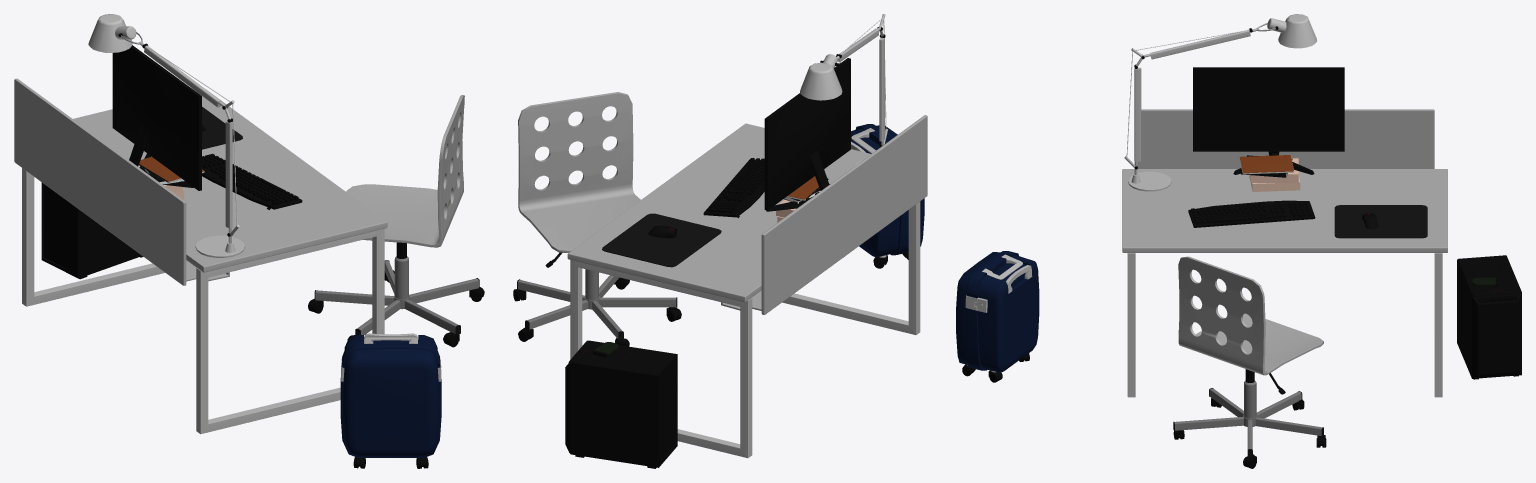
The model's file is Home Desk.obj.
The picture shows the model from 3 angles, left to right: view 1: azimuth 30°, elevation 25°; view 2: azimuth 150°, elevation 25°; view 3: azimuth 270°, elevation 25°; orthographic projection. The views are drawn at different scales.
Parts seen in each view (by area): view 1: pCube11_Key3_0, Air_bag:pCube13_Sep_33_Air_bag:Bag_0, pCube11_Air_bag:Key_0, pCube18_Stool:phong1_0, ffd1Lattice1_Key3_0, pCube83_Stool:phong1_0, polySurface1_Air_bag:Key_0, ffd1Lattice1_Key4_0, pCube58_Dup_3_Stool:phong1_0, pCube59_phong1_0, ffd1Lattice1_Ext_6_Stool:phong1_0, pCube22_Sep_5_Stool:phong1_0 (+1 smaller); view 2: pCube11_Key3_0, ffd1Lattice1_Key3_0, pCube83_Stool:phong1_0, pCube11_Air_bag:Key_0, pCube18_Stool:phong1_0, pCube59_phong1_0, ffd1Lattice1_Key4_0, polySurface1_Air_bag:Key_0, Air_bag:pCube13_Sep_33_Air_bag:Bag_0, pCube58_Dup_3_Stool:phong1_0, ffd1Lattice1_Ext_6_Stool:phong1_0, pCube22_Sep_5_Stool:phong1_0; view 3: pCube11_Key3_0, pCube18_Stool:phong1_0, ffd1Lattice1_Key3_0, Air_bag:pCube13_Sep_33_Air_bag:Bag_0, pCube83_Stool:phong1_0, polySurface1_Air_bag:Key_0, pCube59_phong1_0, ffd1Lattice1_Key4_0, pCube11_Air_bag:Key_0, pCube58_Dup_3_Stool:phong1_0, Air_bag:pCube13_Sep_33_Air_bag:Key_0, pCube23_Dup_4_Key_0.
Part boxes in pixels (x1,y1,x2,y2): pCube11_Key3_0: (14,78,387,285); Air_bag:pCube13_Sep_33_Air_bag:Bag_0: (340,335,441,457); pCube11_Air_bag:Key_0: (22,168,384,434); pCube18_Stool:phong1_0: (112,45,201,190); ffd1Lattice1_Key3_0: (346,95,464,247); pCube83_Stool:phong1_0: (41,182,143,279); polySurface1_Air_bag:Key_0: (88,14,244,257); ffd1Lattice1_Key4_0: (315,256,478,335); pCube58_Dup_3_Stool:phong1_0: (202,153,302,209); pCube59_phong1_0: (202,106,242,149); ffd1Lattice1_Ext_6_Stool:phong1_0: (308,270,484,347); pCube22_Sep_5_Stool:phong1_0: (129,125,193,187); pCube11_Key3_0: (567,115,927,314); ffd1Lattice1_Key3_0: (518,92,640,252); pCube83_Stool:phong1_0: (565,340,677,468); pCube11_Air_bag:Key_0: (570,201,920,458); pCube18_Stool:phong1_0: (764,58,850,210); pCube59_phong1_0: (602,213,721,267); ffd1Lattice1_Key4_0: (518,269,676,338); polySurface1_Air_bag:Key_0: (800,14,887,166); Air_bag:pCube13_Sep_33_Air_bag:Bag_0: (851,124,924,256); pCube58_Dup_3_Stool:phong1_0: (703,158,764,218); ffd1Lattice1_Ext_6_Stool:phong1_0: (513,277,681,346); pCube22_Sep_5_Stool:phong1_0: (766,150,829,211); pCube11_Key3_0: (1122,109,1447,252); pCube18_Stool:phong1_0: (1193,67,1344,151); ffd1Lattice1_Key3_0: (1178,256,1323,375); Air_bag:pCube13_Sep_33_Air_bag:Bag_0: (956,251,1039,372); pCube83_Stool:phong1_0: (1457,255,1521,379); polySurface1_Air_bag:Key_0: (1124,14,1317,191); pCube59_phong1_0: (1334,205,1427,238); ffd1Lattice1_Key4_0: (1174,380,1322,449); pCube11_Air_bag:Key_0: (1127,253,1442,397); pCube58_Dup_3_Stool:phong1_0: (1188,200,1315,227); Air_bag:pCube13_Sep_33_Air_bag:Key_0: (965,254,1032,312); pCube23_Dup_4_Key_0: (1239,155,1293,173).
Bounding box in the file's own units: 1.98 × 1.79 × 3.02.
